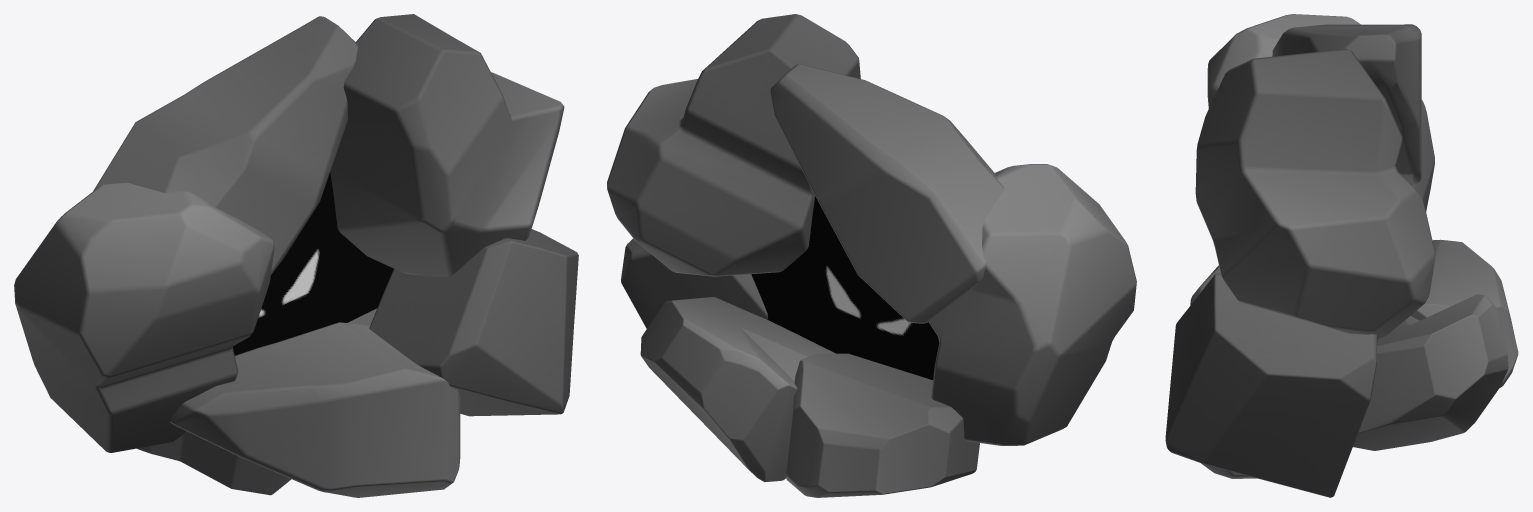
The model's file is SM_blinkingCave.fbx.
3 views of the same model, side by side, from view 1: azimuth 30°, elevation 25°; view 2: azimuth 150°, elevation 25°; view 3: azimuth 270°, elevation 25° (orthographic). The views are drawn at different scales.
Visible parts, largest first — view 1: SM_rockCliff_dynamic_2, SM_rockCliff_dynamic_6, SM_rockCliff_dynamic, SM_rockCliff_dynamic_5, SM_rockCliff_dynamic_3, SM_blinkCave, SM_rockCliff_dynamic_1; view 2: SM_rockCliff_dynamic_6, SM_rockCliff_dynamic_2, SM_rockCliff_dynamic_5, SM_rockCliff_dynamic_1, SM_rockCliff_dynamic_4, SM_blinkCave, SM_rockCliff_dynamic_3; view 3: SM_rockCliff_dynamic_6, SM_rockCliff_dynamic_3, SM_rockCliff_dynamic_4, SM_rockCliff_dynamic_5, SM_rockCliff_dynamic_1, SM_rockCliff_dynamic_2, SM_rockCliff_dynamic.
Part boxes in pixels (<box>): SM_rockCliff_dynamic_2: <box>14,182,274,452</box>; SM_rockCliff_dynamic_6: <box>330,14,564,276</box>; SM_rockCliff_dynamic: <box>170,322,460,497</box>; SM_rockCliff_dynamic_5: <box>93,16,357,274</box>; SM_rockCliff_dynamic_3: <box>369,229,578,416</box>; SM_blinkCave: <box>233,172,393,355</box>; SM_rockCliff_dynamic_1: <box>137,431,291,495</box>; SM_rockCliff_dynamic_6: <box>607,14,860,276</box>; SM_rockCliff_dynamic_2: <box>929,164,1136,445</box>; SM_rockCliff_dynamic_5: <box>770,63,1004,323</box>; SM_rockCliff_dynamic_1: <box>786,353,979,497</box>; SM_rockCliff_dynamic_4: <box>640,297,835,482</box>; SM_blinkCave: <box>751,196,939,379</box>; SM_rockCliff_dynamic_3: <box>621,238,768,328</box>; SM_rockCliff_dynamic_6: <box>1195,48,1435,339</box>; SM_rockCliff_dynamic_3: <box>1165,273,1377,497</box>; SM_rockCliff_dynamic_4: <box>1353,294,1508,450</box>; SM_rockCliff_dynamic_5: <box>1272,24,1421,184</box>; SM_rockCliff_dynamic_1: <box>1410,239,1518,387</box>; SM_rockCliff_dynamic_2: <box>1207,14,1434,211</box>; SM_rockCliff_dynamic: <box>1190,265,1257,478</box>.
Bounding box in the file's own units: 306 × 250 × 184.
